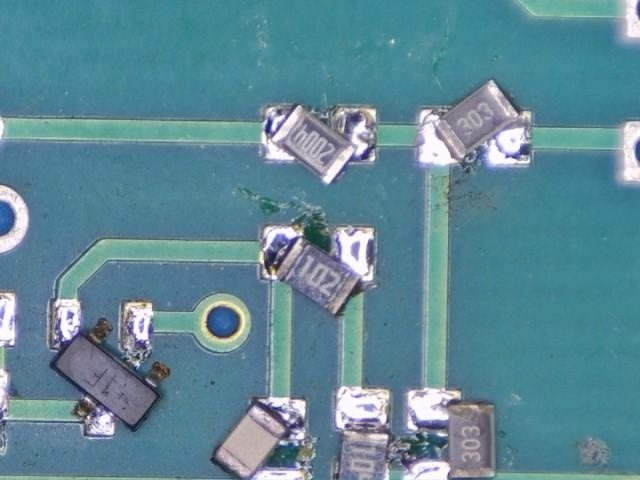pcb_defect: (49, 299, 170, 439), (260, 223, 375, 317), (417, 77, 532, 166), (262, 103, 377, 185), (211, 397, 312, 480), (404, 389, 496, 480), (333, 387, 390, 480)
